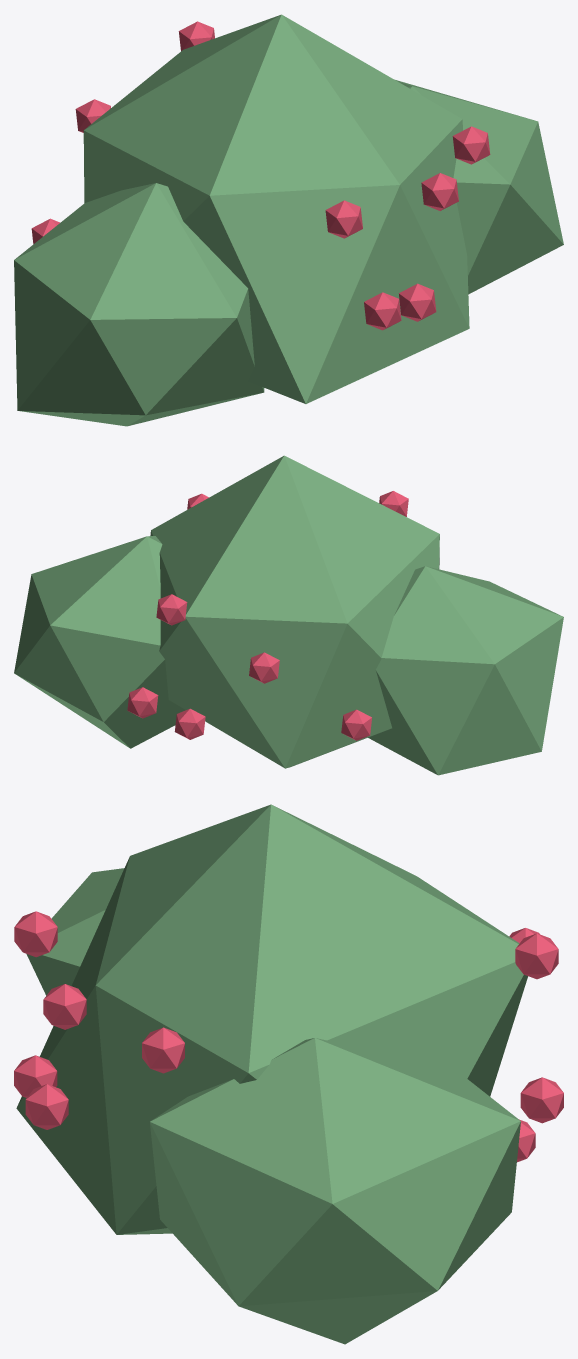
The model's file is Bush_Berry.fbx.
The picture shows the model from 3 angles, top to bottom: view 1: azimuth 30°, elevation 25°; view 2: azimuth 150°, elevation 25°; view 3: azimuth 270°, elevation 25°; orthographic projection. The views are drawn at different scales.
Visible parts, largest first — view 1: Bush_Berry_Mesh; view 2: Bush_Berry_Mesh; view 3: Bush_Berry_Mesh.
Part boxes in pixels (x1,y1,x2,y2): Bush_Berry_Mesh: [14, 14, 563, 426]; Bush_Berry_Mesh: [14, 455, 563, 775]; Bush_Berry_Mesh: [14, 804, 563, 1344].
Bounding box in the file's own units: 1.87 × 1.17 × 1.3.
